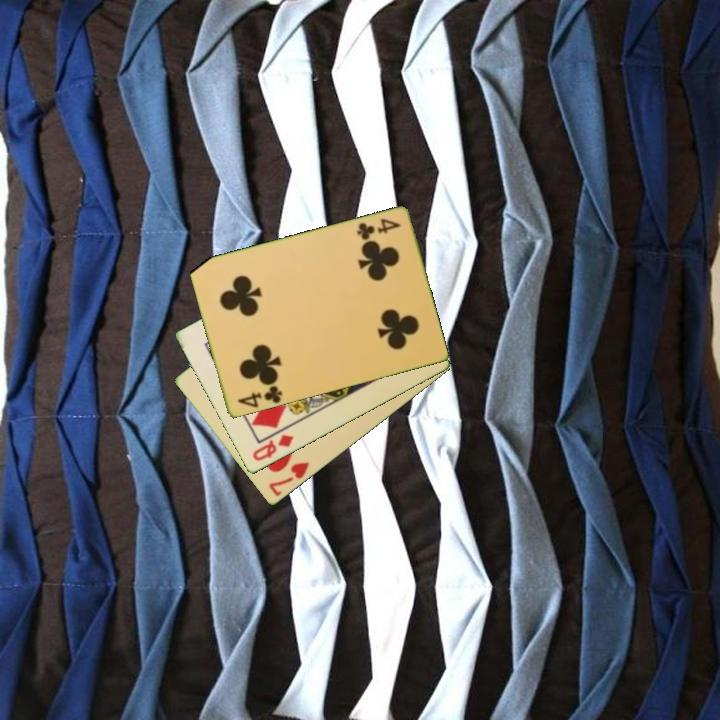4c: (234, 380, 285, 411), (353, 215, 404, 243)
7h: (265, 459, 312, 500)
Qd: (249, 431, 297, 464)
